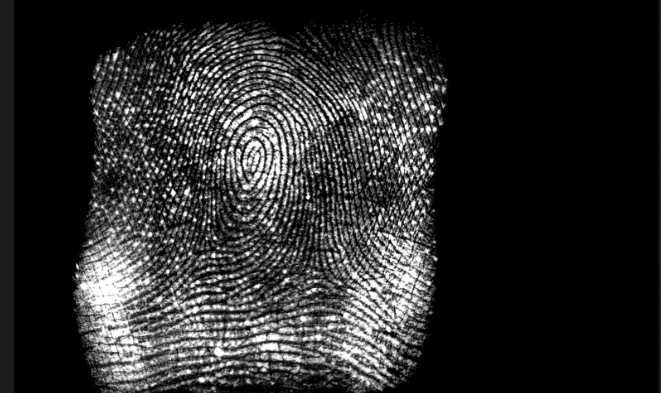deltas: (289, 242, 339, 295), (182, 225, 230, 271)
nucleo: (232, 131, 277, 188)
